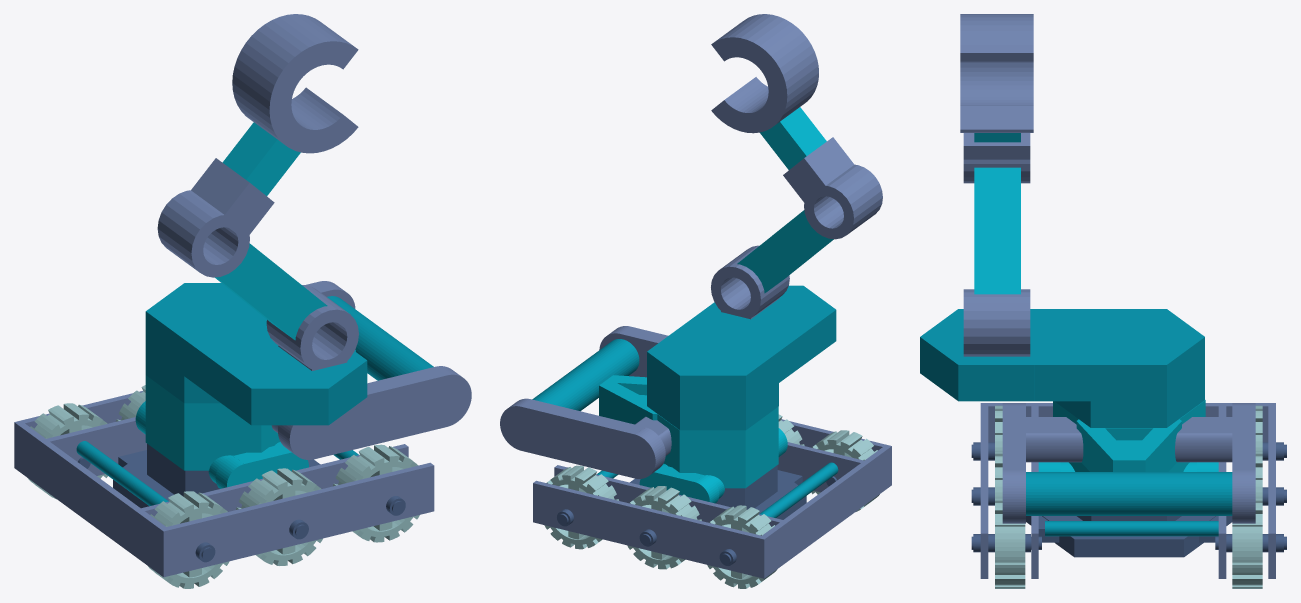
File: bot-tank-blue-manipulator.glb
The picture shows the model from 3 angles, left to right: view 1: azimuth 30°, elevation 25°; view 2: azimuth 150°, elevation 25°; view 3: azimuth 270°, elevation 25°; orthographic projection. The views are drawn at different scales.
Parts seen in each view (by area): view 1: Mesh_Mesh_head_geo.001_lambert2SG.001; view 2: Mesh_Mesh_head_geo.001_lambert2SG.001; view 3: Mesh_Mesh_head_geo.001_lambert2SG.001.
Part boxes in pixels (<box>): Mesh_Mesh_head_geo.001_lambert2SG.001: <box>14,14,471,588</box>; Mesh_Mesh_head_geo.001_lambert2SG.001: <box>500,14,891,588</box>; Mesh_Mesh_head_geo.001_lambert2SG.001: <box>920,14,1286,588</box>.
Bounding box in the file's own units: 0.0272 × 0.0433 × 0.0274.
